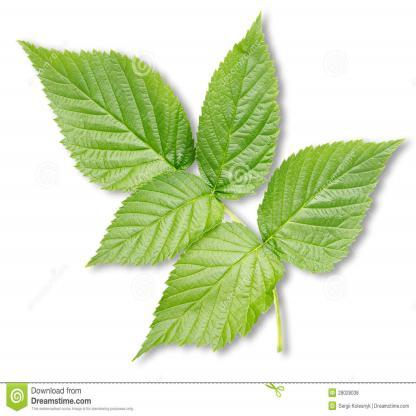Raspberry leaf: (14, 34, 196, 192), (132, 216, 291, 362), (254, 136, 408, 270), (190, 8, 282, 199), (80, 168, 229, 272)
